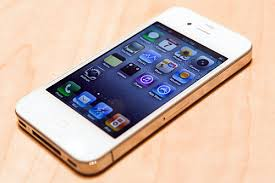iphone: (12, 4, 255, 179)
iphone4: (12, 4, 255, 179)
